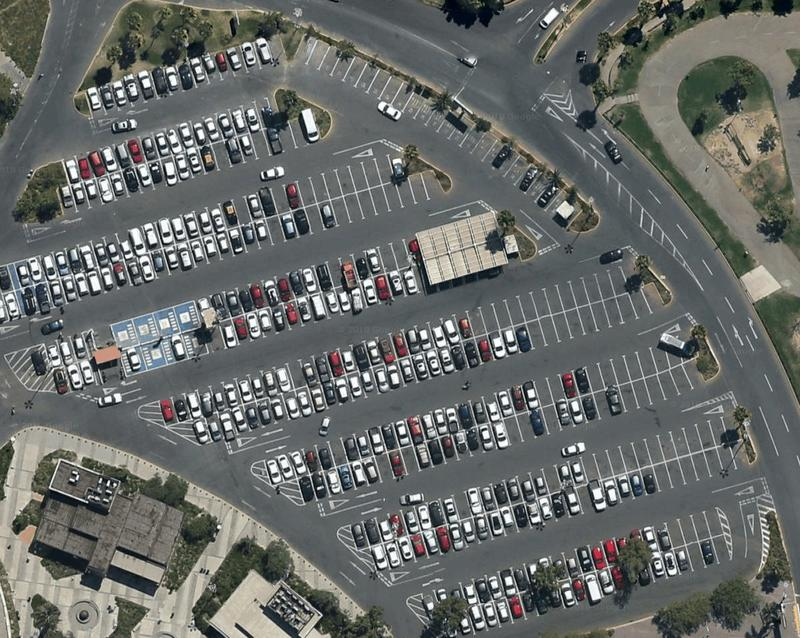parkingspot: (157, 261, 646, 428), (192, 281, 667, 447), (262, 328, 699, 488), (0, 169, 448, 324), (296, 357, 708, 506), (0, 149, 410, 295), (349, 411, 745, 551), (369, 438, 752, 575), (292, 34, 565, 213), (420, 506, 726, 621), (441, 533, 733, 638), (56, 112, 323, 218), (192, 233, 429, 329), (203, 261, 439, 355), (60, 95, 276, 187), (84, 34, 288, 120), (109, 299, 202, 352), (117, 326, 210, 378), (43, 331, 91, 370), (51, 358, 99, 397)
